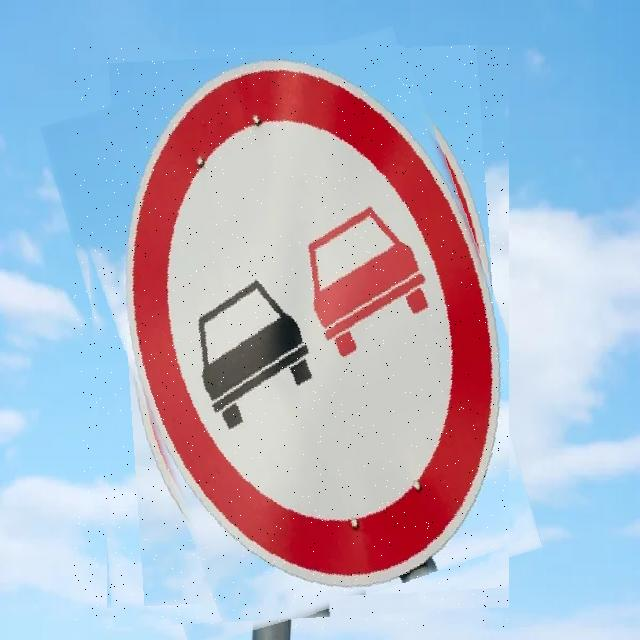no overtaking: (74, 45, 509, 628)
